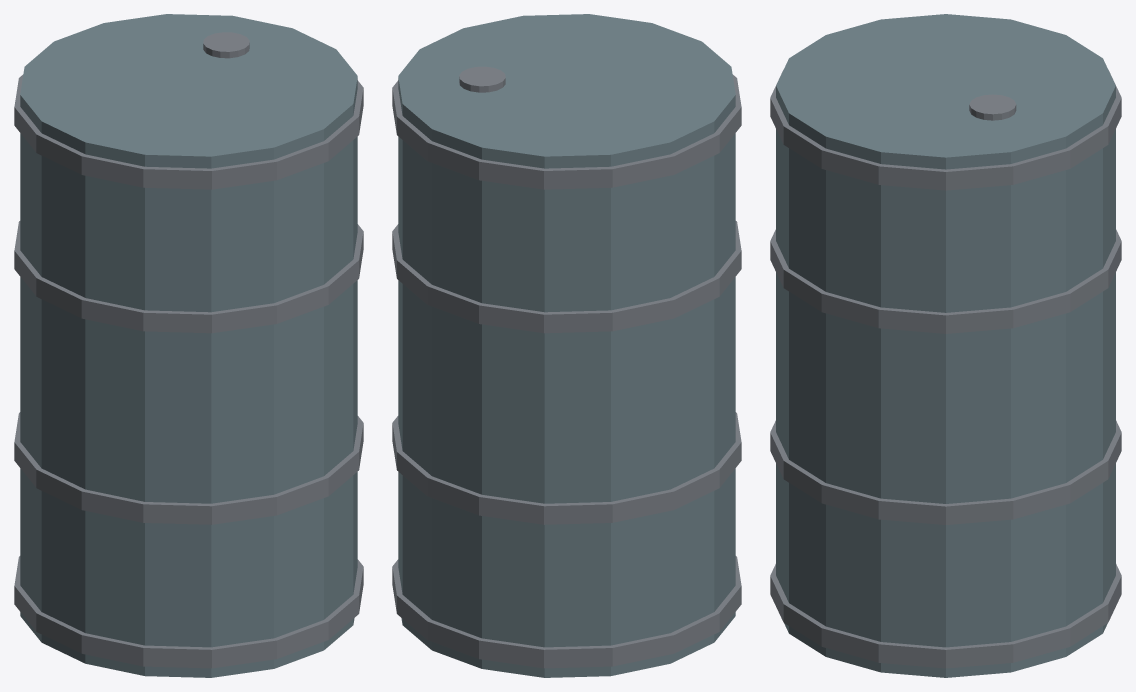
Rendered from barrel.glb.
3 renders of one model, left to right at view 1: azimuth 30°, elevation 25°; view 2: azimuth 150°, elevation 25°; view 3: azimuth 270°, elevation 25°, orthographic.
Parts seen in each view (by area): view 1: barrel; view 2: barrel; view 3: barrel.
Boxes of the visible parts, x1,y1,x2,y2 form: barrel: (14,14,363,677); barrel: (392,14,741,677); barrel: (770,14,1121,677).
Size of the model in its own units: 0.6 by 1 by 0.6.
